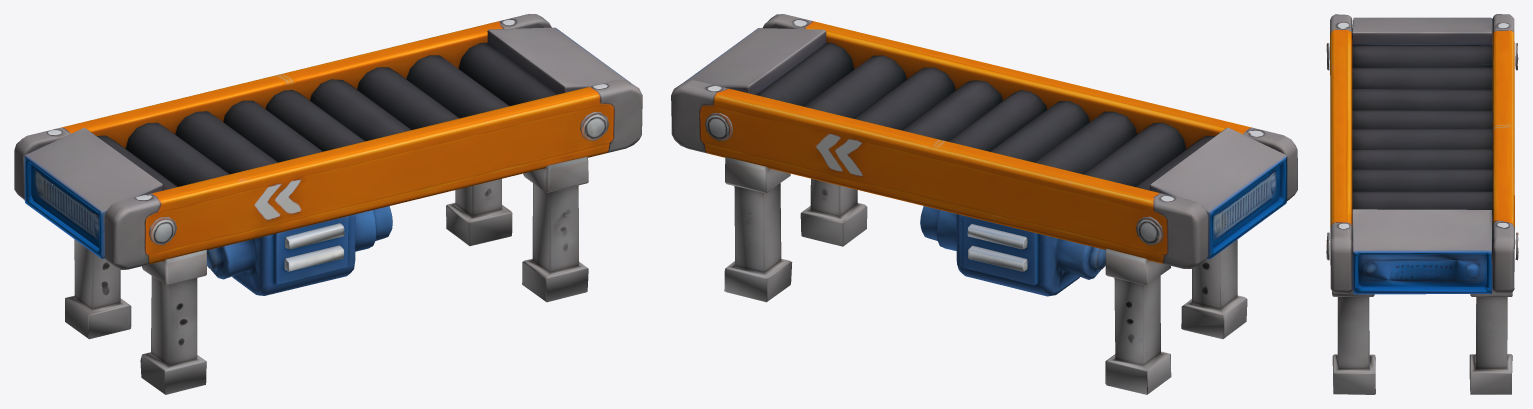
File: straight.glb
3 renders of one model, left to right at view 1: azimuth 30°, elevation 25°; view 2: azimuth 150°, elevation 25°; view 3: azimuth 270°, elevation 25°, orthographic. The views are drawn at different scales.
Visible parts, largest first — view 1: geometry_0; view 2: geometry_0; view 3: geometry_0.
Boxes of the visible parts, x1=… form: geometry_0: x1=14, y1=14, x2=642, y2=394; geometry_0: x1=671, y1=14, x2=1297, y2=394; geometry_0: x1=1326, y1=14, x2=1518, y2=394.
Bounding box in the file's own units: 1 × 0.3644 × 0.3497.
1 material, 1 textured.
